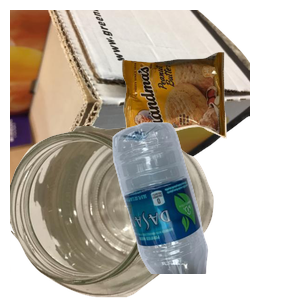cardboard: (10, 10, 250, 190)
glass: (10, 126, 216, 300)
plastic: (110, 120, 300, 300)
trash: (120, 50, 300, 182)
